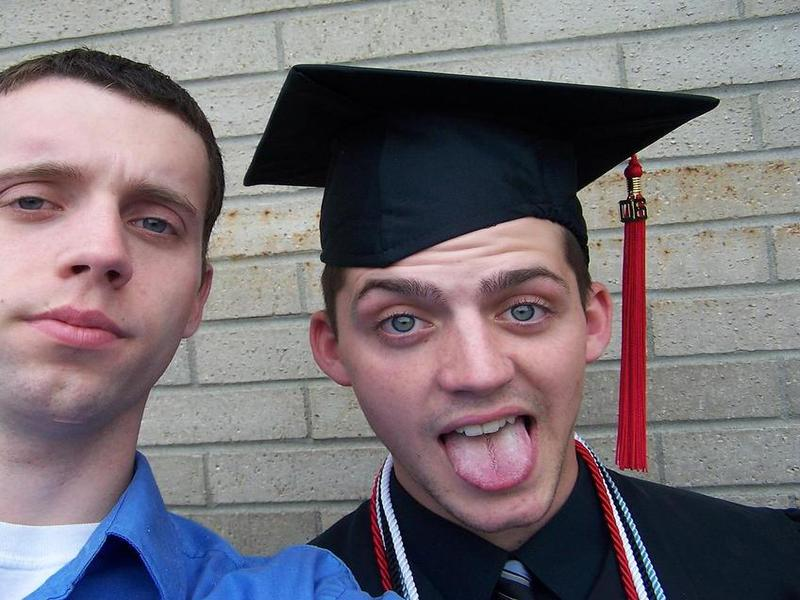person: (240, 58, 797, 600), (1, 45, 393, 600)
